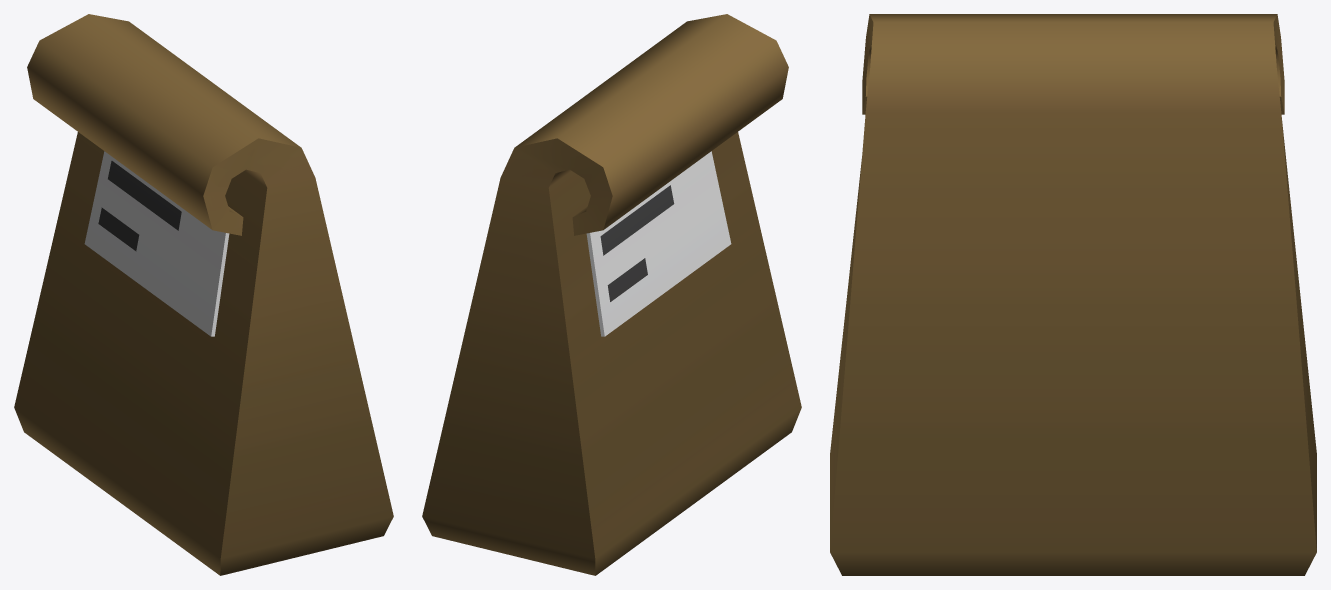
The model's file is BagFood_2_B.glb.
3 renders of one model, left to right at view 1: azimuth 30°, elevation 25°; view 2: azimuth 150°, elevation 25°; view 3: azimuth 270°, elevation 25°, orthographic. The views are drawn at different scales.
Visible parts, largest first — view 1: BagFood_2_B; view 2: BagFood_2_B; view 3: BagFood_2_B.
Part boxes in pixels (x1=…): BagFood_2_B: x1=14, y1=14, x2=393, y2=575; BagFood_2_B: x1=422, y1=14, x2=801, y2=575; BagFood_2_B: x1=830, y1=14, x2=1316, y2=575.
Bounding box in the file's own units: 0.1518 × 0.3513 × 0.3098.
Materials: 1 (1 with a texture image).
